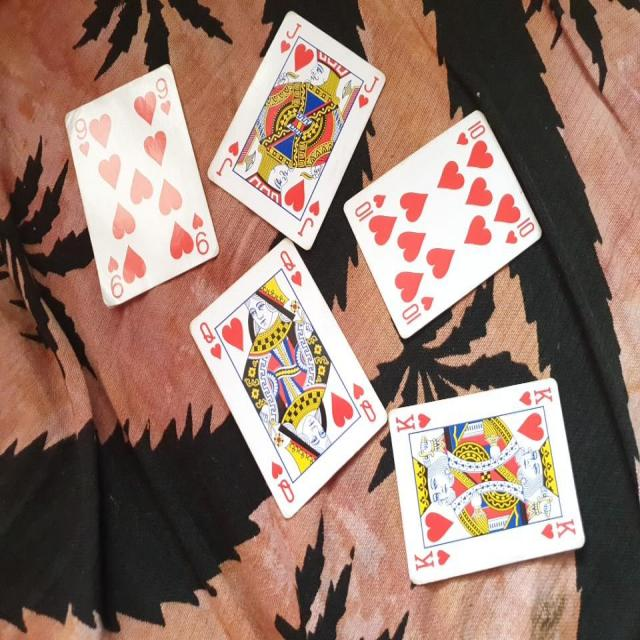10 Hearts: (344, 104, 548, 343)
9 Hearts: (70, 54, 224, 316)
J Hearts: (204, 5, 386, 246)
K Hearts: (388, 368, 591, 583)
Q Hearts: (190, 233, 392, 532)
